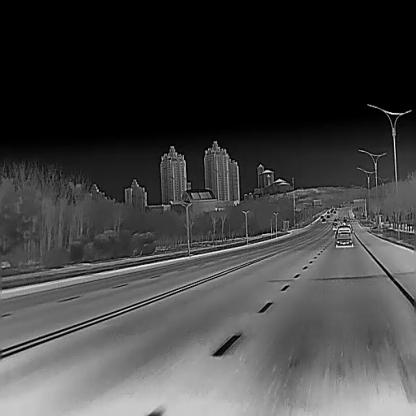car: (335, 225, 353, 247), (332, 223, 338, 230)
